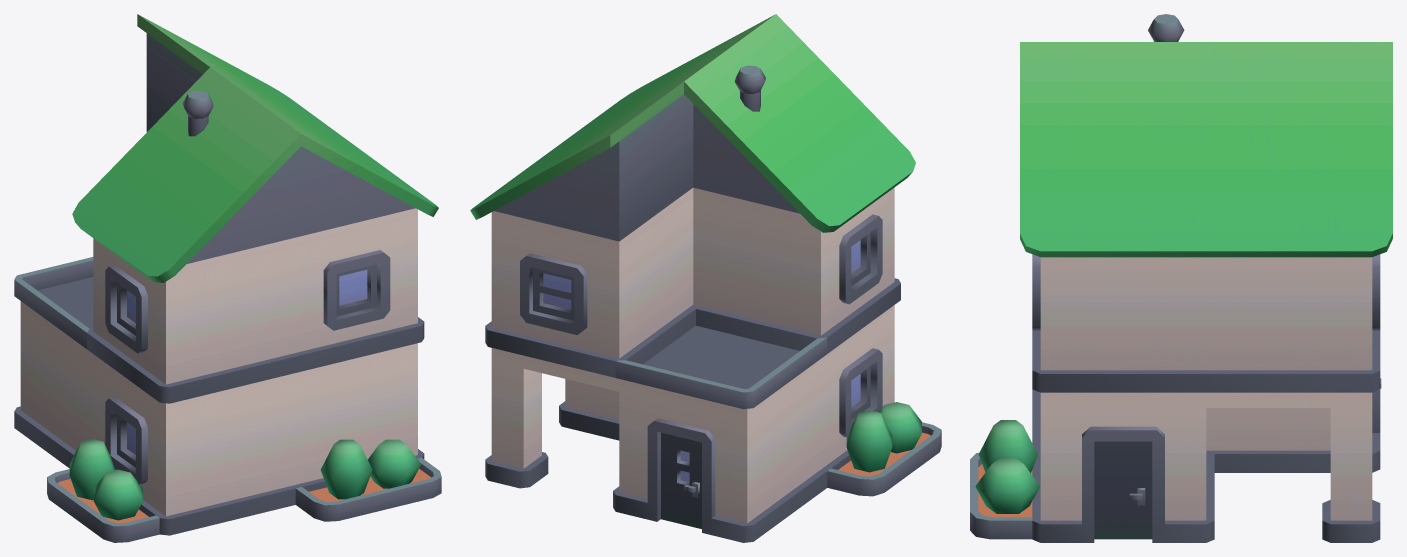
The model's file is sub_building_type_r.glb.
3 renders of one model, left to right at view 1: azimuth 30°, elevation 25°; view 2: azimuth 150°, elevation 25°; view 3: azimuth 270°, elevation 25°, orthographic. The views are drawn at different scales.
Parts seen in each view (by area): view 1: building-type-r; view 2: building-type-r; view 3: building-type-r.
Boxes of the visible parts, box(x1,y1,x2,y2) form: building-type-r: box(14, 14, 441, 542); building-type-r: box(470, 14, 941, 542); building-type-r: box(970, 14, 1392, 542).
Bounding box in the file's own units: 1.03 × 1.14 × 1.02.
1 material, 1 textured.
